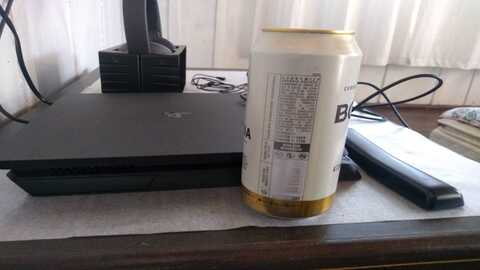bohemia: (243, 20, 363, 210)
